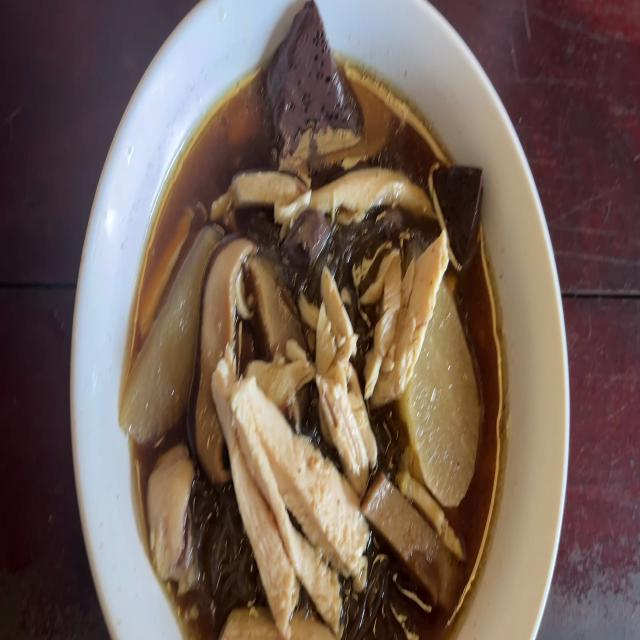noodle: (260, 0, 358, 152), (436, 156, 491, 256), (285, 215, 330, 272)
